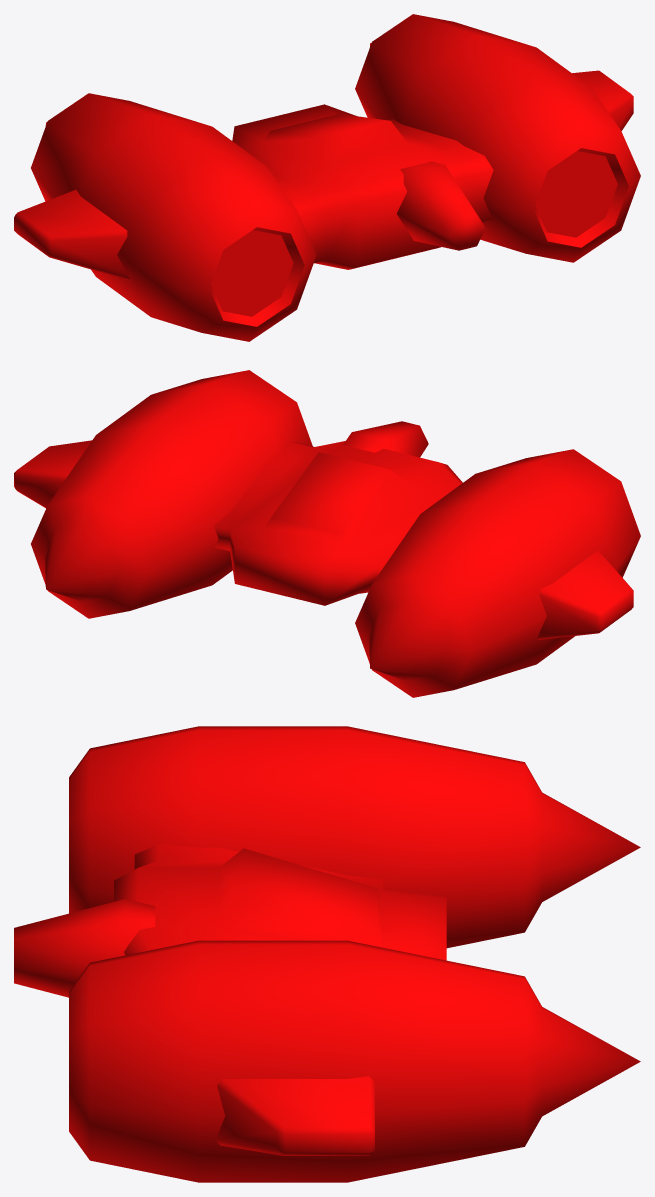
Rendered from Interceptor.fbx.
3 renders of one model, top to bottom at view 1: azimuth 30°, elevation 25°; view 2: azimuth 150°, elevation 25°; view 3: azimuth 270°, elevation 25°, orthographic. The views are drawn at different scales.
Parts seen in each view (by area): view 1: Unit_Protoss_Interceptor; view 2: Unit_Protoss_Interceptor; view 3: Unit_Protoss_Interceptor.
Part boxes in pixels (x1,y1,x2,y2): Unit_Protoss_Interceptor: (14,14,640,341); Unit_Protoss_Interceptor: (14,370,640,697); Unit_Protoss_Interceptor: (14,726,640,1182).
Size of the model in its own units: 71.67 by 20.05 by 48.82.
